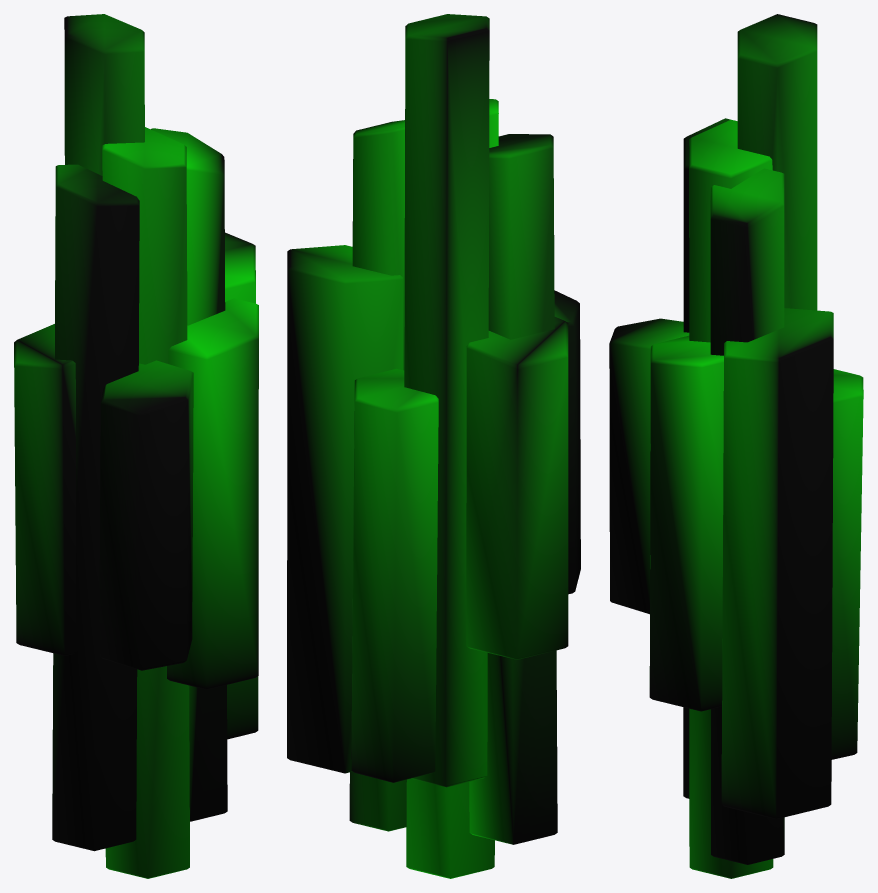
Rendered from SM_RockHexic_Spire01.fbx.
The picture shows the model from 3 angles, left to right: view 1: azimuth 30°, elevation 25°; view 2: azimuth 150°, elevation 25°; view 3: azimuth 270°, elevation 25°; orthographic projection. The views are drawn at different scales.
Parts seen in each view (by area): view 1: SM_RockHexic_Spire01; view 2: SM_RockHexic_Spire01; view 3: SM_RockHexic_Spire01.
Boxes of the visible parts, x1,y1,x2,y2 form: SM_RockHexic_Spire01: (14, 14, 258, 878); SM_RockHexic_Spire01: (287, 14, 580, 878); SM_RockHexic_Spire01: (609, 14, 863, 878).
Bounding box in the file's own units: 1209 × 1044 × 3709.
